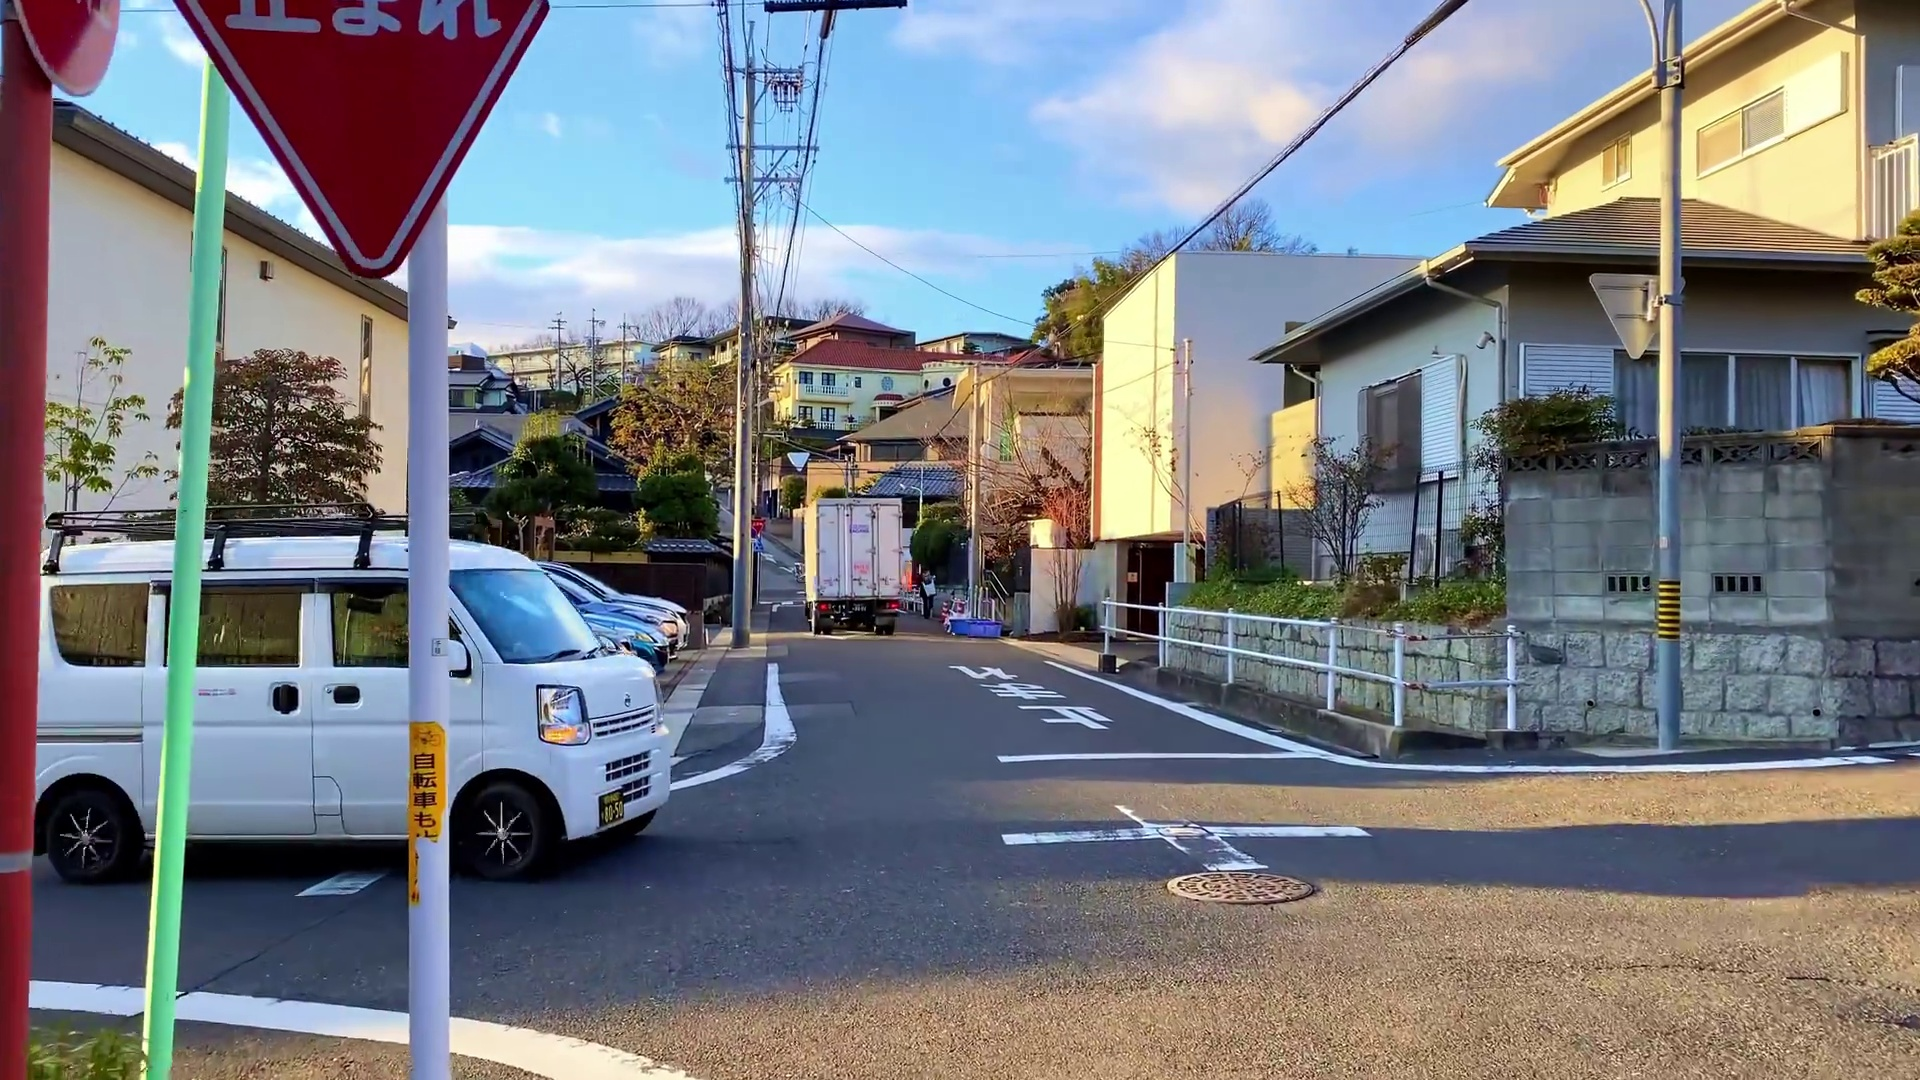car: (41, 535, 663, 865)
